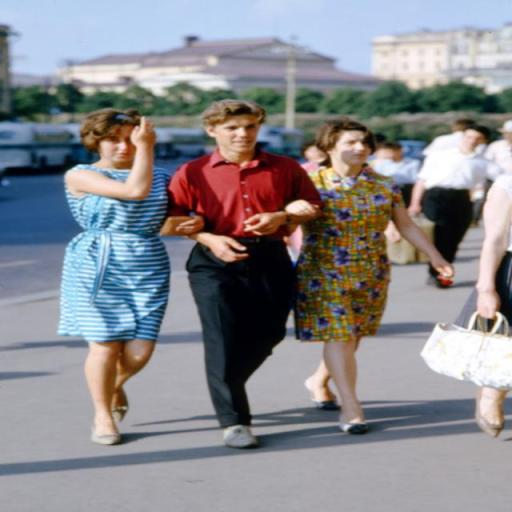person: (169, 100, 322, 450), (295, 115, 460, 433), (60, 110, 206, 447), (462, 147, 512, 440), (411, 128, 491, 291)
